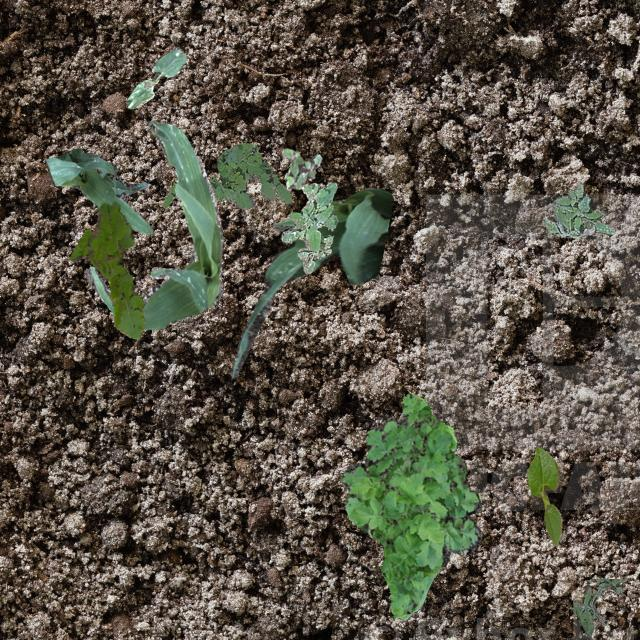crop: (230, 186, 392, 377), (86, 120, 222, 328), (44, 148, 152, 234), (126, 46, 184, 108), (526, 446, 560, 546)
weed: (340, 392, 480, 618), (68, 200, 144, 338), (162, 142, 290, 208), (280, 182, 336, 272), (542, 182, 614, 236), (572, 578, 626, 634), (280, 148, 320, 188)
